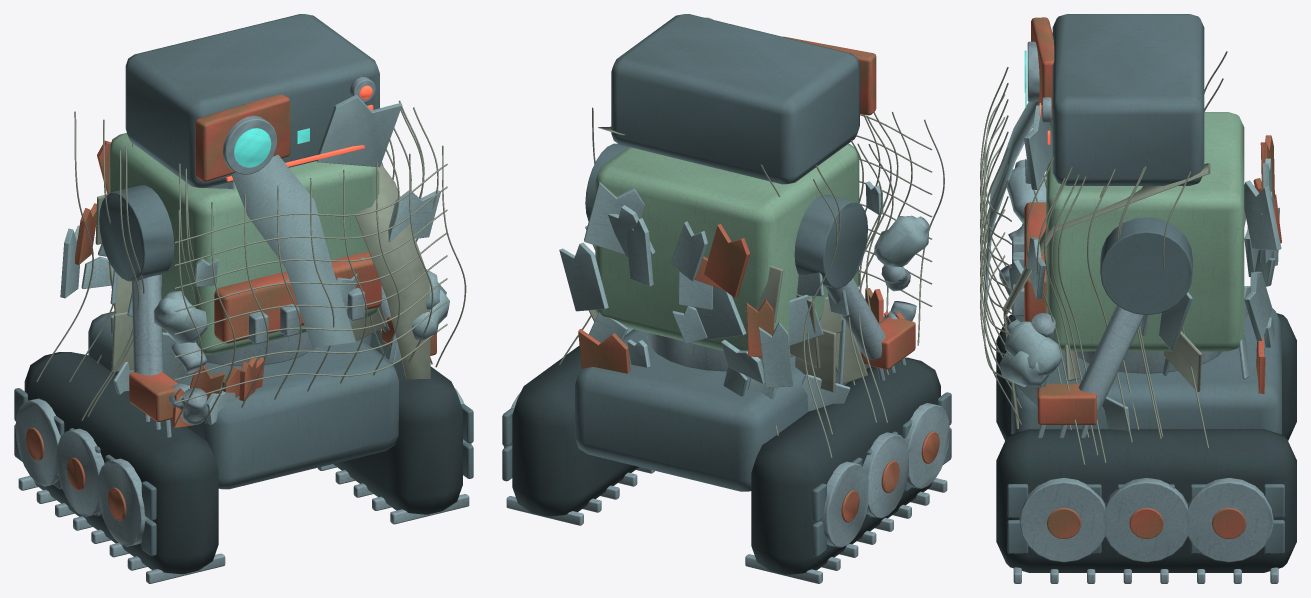
File: TrashCleaner_B.glb
3 renders of one model, left to right at view 1: azimuth 30°, elevation 25°; view 2: azimuth 150°, elevation 25°; view 3: azimuth 270°, elevation 25°, orthographic. The views are drawn at different scales.
Visible parts, largest first — view 1: VIS_Rubber, VIS_CastIron, VIS_CastIron.001, VIS_DirtyCanvas, VIS_WetSteel, VIS_ForestCeramic, VIS_WastePlastic, VIS_RustSteel, VIS_WastePlastic.001, VIS_RustSteel.001, VIS_WetSteel.001, VIS_OpticCyan (+1 smaller); view 2: VIS_CastIron.001, VIS_CastIron, VIS_Rubber, VIS_ForestCeramic, VIS_WastePlastic.001, VIS_WetSteel, VIS_DirtyCanvas, VIS_RustSteel, VIS_RustSteel.001; view 3: VIS_CastIron.001, VIS_Rubber, VIS_ForestCeramic, VIS_CastIron, VIS_WetSteel, VIS_WastePlastic.001, VIS_DirtyCanvas, VIS_RustSteel, VIS_WastePlastic, VIS_RustSteel.001, VIS_WetSteel.001.
Part boxes in pixels (left/top/right/bottom): VIS_Rubber: left=24, top=330, right=462, bottom=574; VIS_CastIron: left=14, top=162, right=473, bottom=556; VIS_CastIron.001: left=125, top=14, right=379, bottom=187; VIS_DirtyCanvas: left=36, top=100, right=466, bottom=431; VIS_WetSteel: left=15, top=275, right=471, bottom=583; VIS_ForestCeramic: left=109, top=133, right=379, bottom=354; VIS_WastePlastic: left=231, top=94, right=402, bottom=347; VIS_RustSteel: left=26, top=140, right=436, bottom=520; VIS_WastePlastic.001: left=60, top=181, right=449, bottom=424; VIS_RustSteel.001: left=195, top=94, right=290, bottom=181; VIS_WetSteel.001: left=223, top=77, right=375, bottom=174; VIS_OpticCyan: left=234, top=128, right=309, bottom=167; VIS_CastIron.001: left=611, top=14, right=859, bottom=184; VIS_CastIron: left=502, top=143, right=951, bottom=556; VIS_Rubber: left=512, top=345, right=940, bottom=574; VIS_ForestCeramic: left=595, top=143, right=859, bottom=359; VIS_WastePlastic.001: left=559, top=181, right=929, bottom=411; VIS_WetSteel: left=503, top=265, right=949, bottom=583; VIS_DirtyCanvas: left=559, top=107, right=944, bottom=457; VIS_RustSteel: left=578, top=223, right=939, bottom=522; VIS_RustSteel.001: left=783, top=36, right=876, bottom=115; VIS_CastIron.001: left=1052, top=14, right=1204, bottom=185; VIS_Rubber: left=996, top=313, right=1296, bottom=572; VIS_ForestCeramic: left=1046, top=112, right=1244, bottom=351; VIS_CastIron: left=1007, top=217, right=1284, bottom=553; VIS_WetSteel: left=999, top=223, right=1278, bottom=583; VIS_WastePlastic.001: left=999, top=158, right=1281, bottom=431; VIS_DirtyCanvas: left=980, top=51, right=1245, bottom=464; VIS_RustSteel: left=1024, top=135, right=1281, bottom=538; VIS_WastePlastic: left=984, top=101, right=1052, bottom=313; VIS_RustSteel.001: left=1031, top=17, right=1054, bottom=119; VIS_WetSteel.001: left=1027, top=41, right=1051, bottom=122.
Size of the model in its own units: 1.19 by 1.52 by 0.9594.
10 materials, 10 textured.
